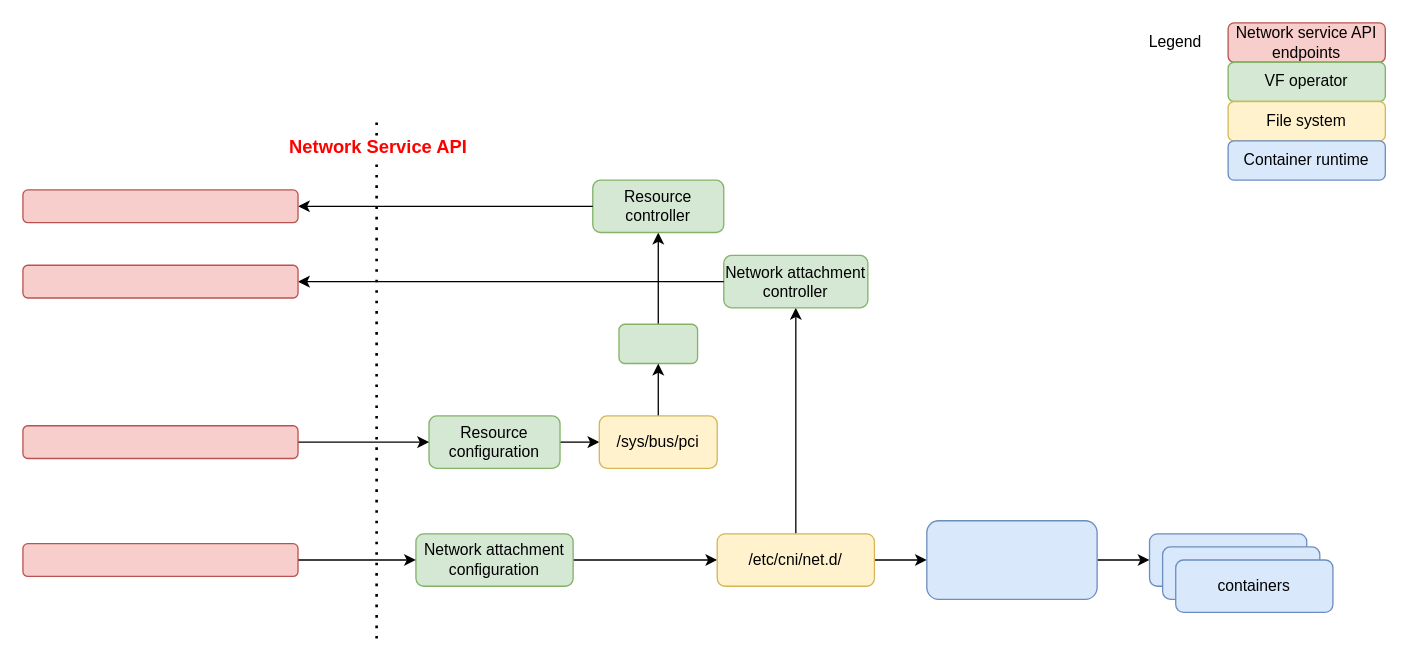
Some shapes in this 1408 by 664 pixel diagram are drawn without their labels. The shapes that lost their labels are listed below. From the top down, each one's centre as x and y in pixels, then its label:
(160,206): /api/v1/resources
(160,281): /api/v1/networkattachments
(658,343): ghw
(160,441): /api/v1/config/resources
(160,559): /api/v1/config/networkattachments
(1011,559): podman
